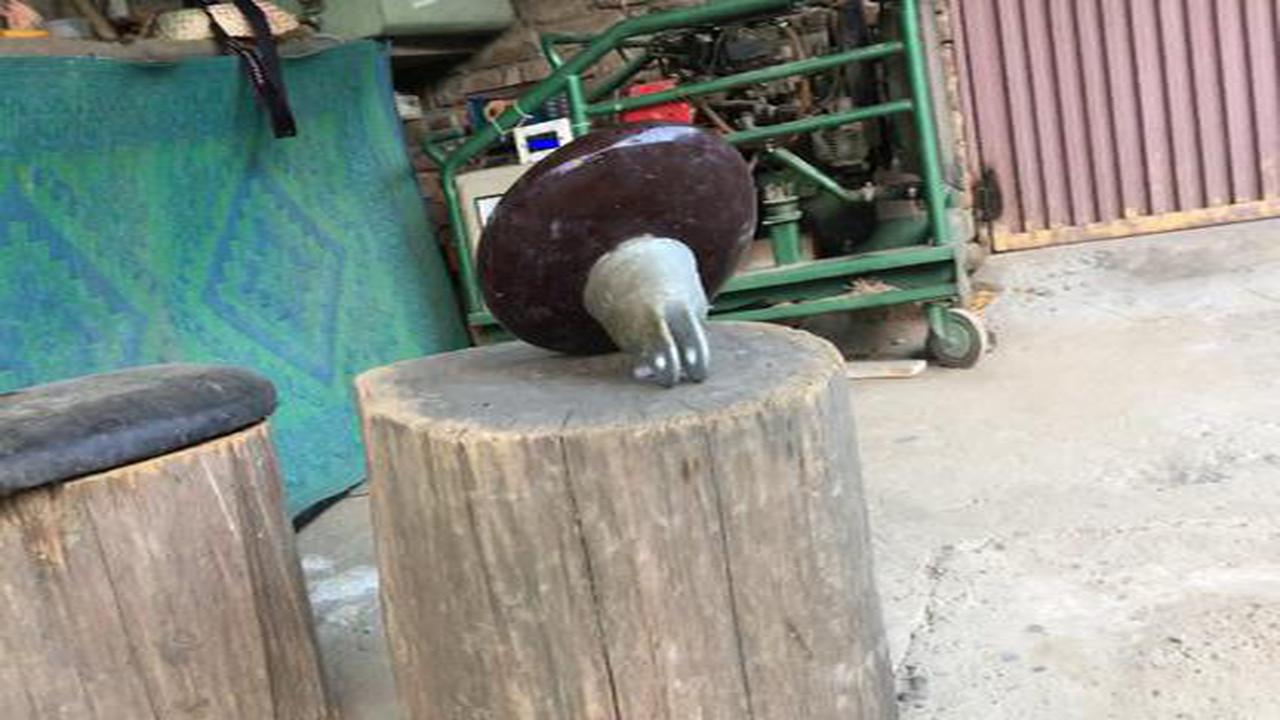insulator_disc: (472, 116, 763, 386)
